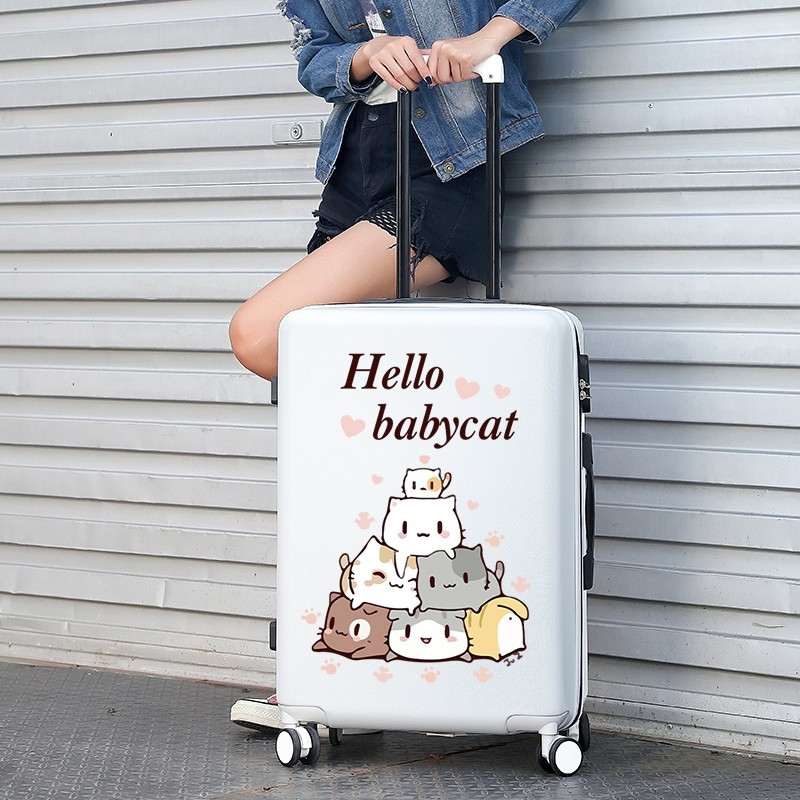box: (276, 303, 590, 735)
handle: (579, 430, 595, 590)
wheel: (274, 724, 325, 768), (533, 732, 581, 776)
